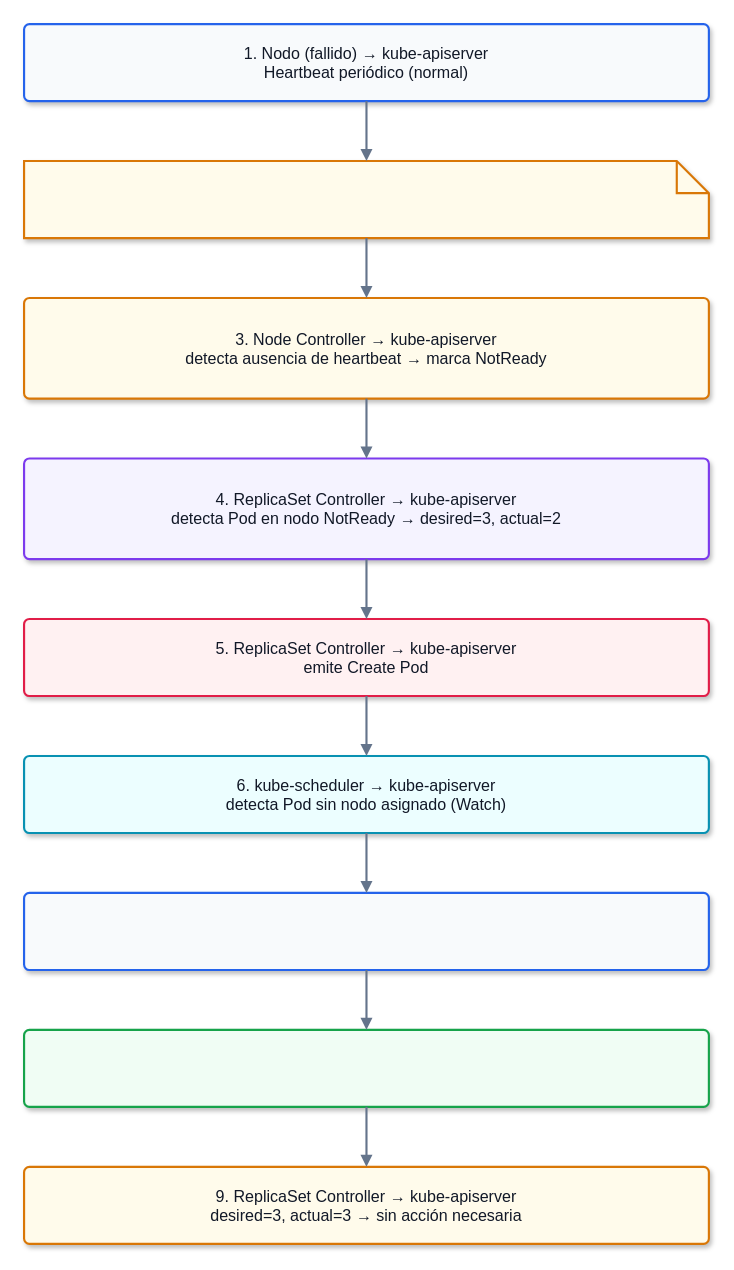
Image size: 734x1270. Some labels were removed from this diagram. Each missing label, with the centre of its shape:
"2. Nota El nodo pierde conectividad" belongs at (367,200).
"7. kube-scheduler → kube-apiserver Bind Pod → NodoB" belongs at (367,932).
"8. Nodo sano → kube-apiserver kubelet reporta Pod Running" belongs at (367,1069).
